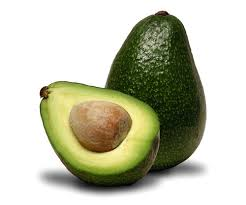aguacate: (102, 8, 212, 171), (35, 79, 161, 189)
